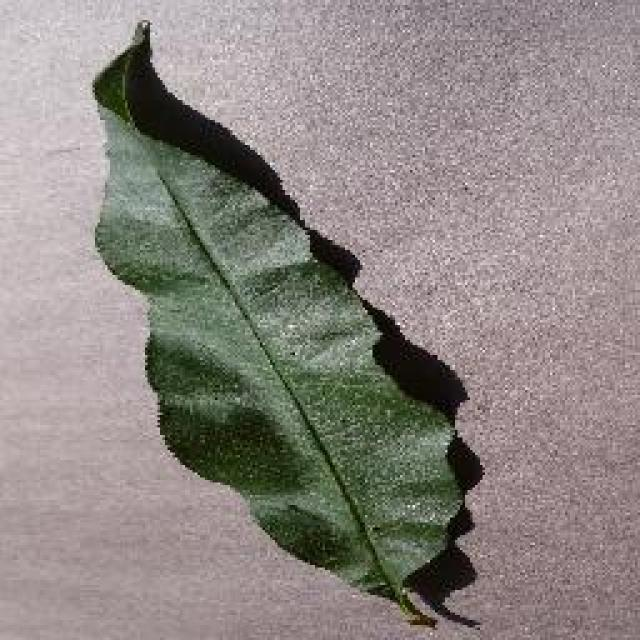Pea_healthy: (89, 86, 464, 535)
